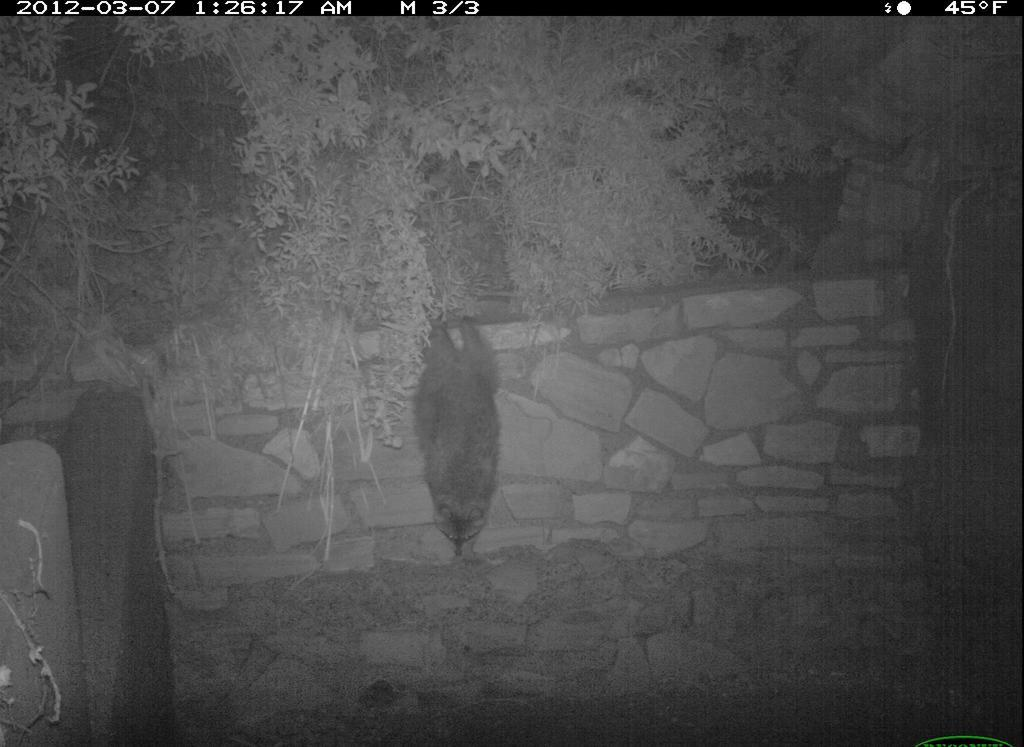raccoon: (397, 304, 527, 571)
